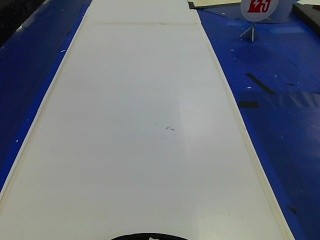battery: (242, 0, 276, 20)
